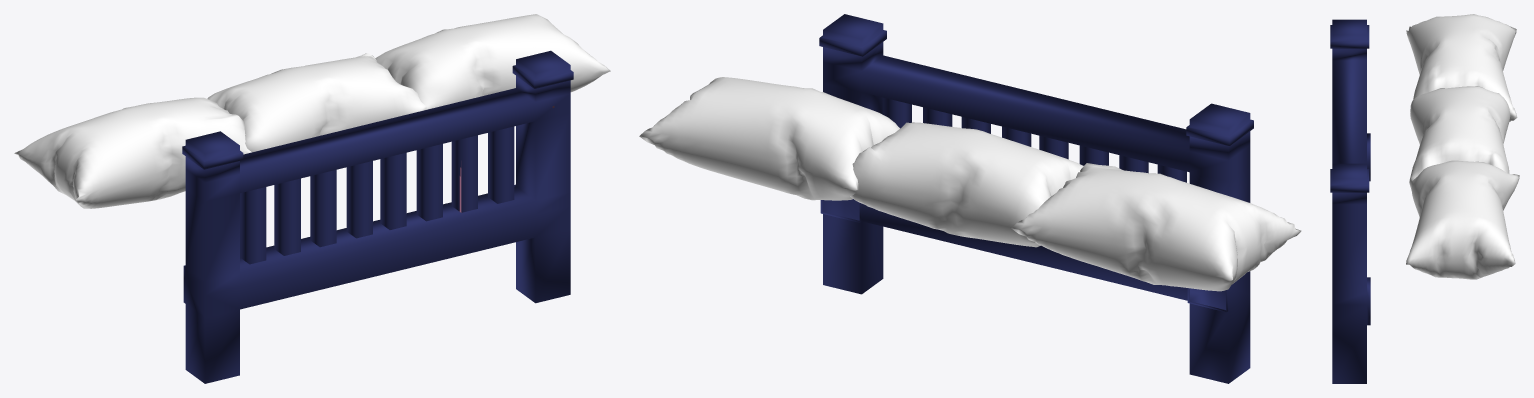
The model's file is Frente.fbx.
3 renders of one model, left to right at view 1: azimuth 30°, elevation 25°; view 2: azimuth 150°, elevation 25°; view 3: azimuth 270°, elevation 25°, orthographic. The views are drawn at different scales.
Visible parts, largest first — view 1: Frente-Cama, Almohada1, Almohada2, almohada3; view 2: Frente-Cama, Almohada1, almohada3, Almohada2; view 3: Frente-Cama, almohada3, Almohada1, Almohada2.
Part boxes in pixels (x1=…): Frente-Cama: x1=182, y1=50, x2=573, y2=383; Almohada1: x1=14, y1=97, x2=251, y2=208; Almohada2: x1=207, y1=53, x2=426, y2=152; almohada3: x1=375, y1=14, x2=610, y2=109; Frente-Cama: x1=819, y1=14, x2=1253, y2=383; Almohada1: x1=1011, y1=163, x2=1301, y2=291; almohada3: x1=639, y1=77, x2=899, y2=200; Almohada2: x1=850, y1=122, x2=1083, y2=247; Frente-Cama: x1=1330, y1=19, x2=1370, y2=383; almohada3: x1=1406, y1=160, x2=1519, y2=279; Almohada1: x1=1406, y1=14, x2=1517, y2=121; Almohada2: x1=1409, y1=86, x2=1510, y2=190.
Bounding box in the file's own units: 174 × 71.22 × 59.57.
